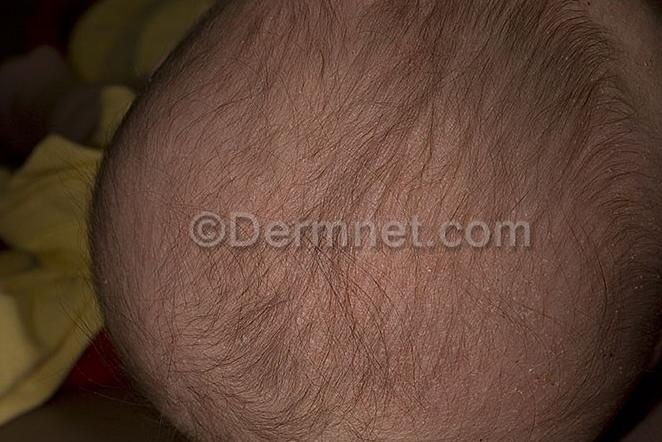xerosis 1: (458, 190, 662, 442)
